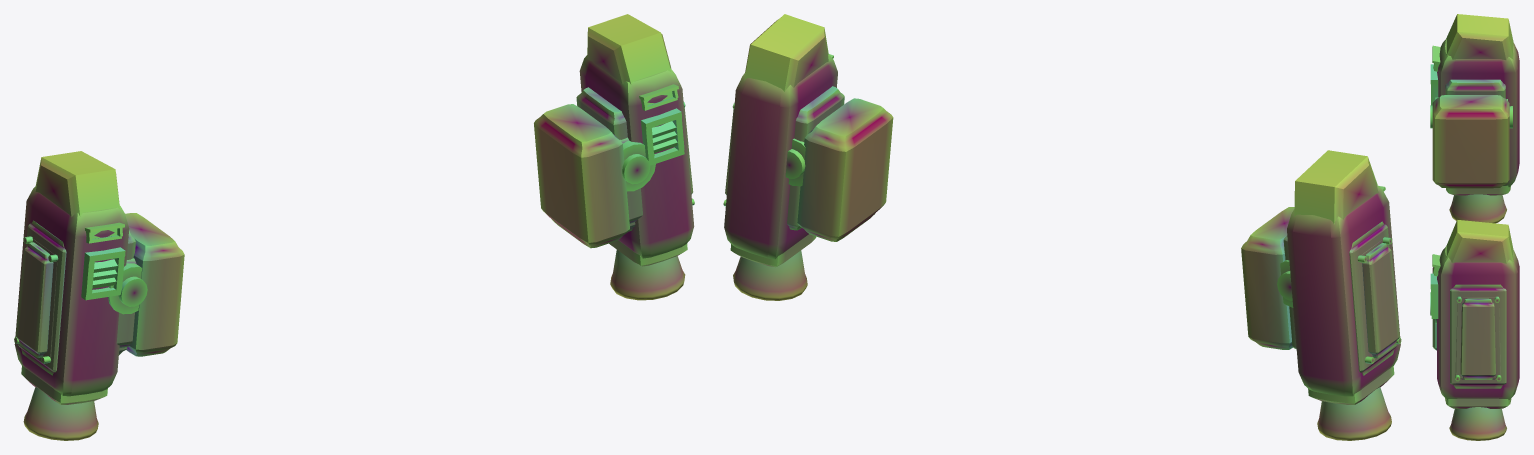
The model's file is llm_gen_leg_thrusters_055_684fba.glb.
The picture shows the model from 3 angles, left to right: view 1: azimuth 30°, elevation 25°; view 2: azimuth 150°, elevation 25°; view 3: azimuth 270°, elevation 25°; orthographic projection. The views are drawn at different scales.
Visible parts, largest first — view 1: adapter_calf_clamp_r, calf_thruster_hull_1_wing_white_l, calf_thruster_hull_1_wing_white_r, adapter_calf_clamp_l, nacelle_upper_cowl_2_psycho_emerald_r, nacelle_upper_cowl_2_psycho_emerald_l, nacelle_flank_armor_6_psycho_emerald_l, calf_main_bell_8_vernier_bell_vernier_l, calf_main_bell_8_vernier_bell_vernier_r, adapter_sub_flank_frame_dark_5_adapter_dark_l, adapter_sub_nacelle_intake_louver_3_dark_l, adapter_sub_tank_cradle_dark_0_adapter_dark_r (+5 smaller); view 2: calf_thruster_hull_1_wing_white_l, calf_thruster_hull_1_wing_white_r, adapter_calf_clamp_r, adapter_calf_clamp_l, nacelle_upper_cowl_2_psycho_emerald_r, nacelle_upper_cowl_2_psycho_emerald_l, nacelle_flank_armor_6_psycho_emerald_l, calf_main_bell_8_vernier_bell_vernier_l, calf_main_bell_8_vernier_bell_vernier_r, adapter_sub_flank_frame_dark_5_adapter_dark_l, adapter_sub_tank_cradle_dark_0_adapter_dark_r, adapter_sub_nozzle_shroud_dark_7_adapter_dark_l (+1 smaller); view 3: adapter_calf_clamp_l, calf_thruster_hull_1_wing_white_r, nacelle_flank_armor_6_psycho_emerald_r, calf_thruster_hull_1_wing_white_l, nacelle_upper_cowl_2_psycho_emerald_l, nacelle_upper_cowl_2_psycho_emerald_r, adapter_sub_flank_frame_dark_5_adapter_dark_r, calf_main_bell_8_vernier_bell_vernier_r, calf_main_bell_8_vernier_bell_vernier_l, adapter_sub_tank_cradle_dark_0_adapter_dark_l, adapter_sub_nozzle_shroud_dark_7_adapter_dark_r, adapter_sub_nozzle_shroud_dark_7_adapter_dark_l (+6 smaller).
Boxes of the visible parts, box(x1,y1,x2,y2) form: adapter_calf_clamp_r: box(534, 104, 655, 248); calf_thruster_hull_1_wing_white_l: box(14, 185, 129, 396); calf_thruster_hull_1_wing_white_r: box(579, 54, 694, 258); adapter_calf_clamp_l: box(108, 213, 184, 356); nacelle_upper_cowl_2_psycho_emerald_r: box(587, 14, 671, 84); nacelle_upper_cowl_2_psycho_emerald_l: box(35, 151, 119, 216); nacelle_flank_armor_6_psycho_emerald_l: box(14, 236, 58, 363); calf_main_bell_8_vernier_bell_vernier_l: box(23, 387, 98, 440); calf_main_bell_8_vernier_bell_vernier_r: box(610, 250, 685, 300); adapter_sub_flank_frame_dark_5_adapter_dark_l: box(18, 220, 66, 375); adapter_sub_nacelle_intake_louver_3_dark_l: box(81, 247, 125, 300); adapter_sub_tank_cradle_dark_0_adapter_dark_r: box(576, 87, 635, 231); calf_thruster_hull_1_wing_white_l: box(1287, 185, 1400, 396); calf_thruster_hull_1_wing_white_r: box(724, 54, 837, 259); adapter_calf_clamp_r: box(788, 98, 893, 241); adapter_calf_clamp_l: box(1241, 207, 1294, 349); nacelle_upper_cowl_2_psycho_emerald_r: box(744, 14, 828, 91); nacelle_upper_cowl_2_psycho_emerald_l: box(1294, 150, 1378, 224); nacelle_flank_armor_6_psycho_emerald_l: box(1357, 237, 1401, 363); calf_main_bell_8_vernier_bell_vernier_l: box(1317, 387, 1391, 440); calf_main_bell_8_vernier_bell_vernier_r: box(733, 250, 807, 300); adapter_sub_flank_frame_dark_5_adapter_dark_l: box(1349, 221, 1397, 375); adapter_sub_tank_cradle_dark_0_adapter_dark_r: box(787, 86, 844, 230); adapter_sub_nozzle_shroud_dark_7_adapter_dark_l: box(1308, 366, 1394, 404); adapter_calf_clamp_l: box(1432, 95, 1509, 188); calf_thruster_hull_1_wing_white_r: box(1437, 246, 1519, 400); nacelle_flank_armor_6_psycho_emerald_r: box(1455, 296, 1501, 381); calf_thruster_hull_1_wing_white_l: box(1437, 39, 1519, 186); nacelle_upper_cowl_2_psycho_emerald_l: box(1446, 14, 1513, 60); nacelle_upper_cowl_2_psycho_emerald_r: box(1446, 220, 1513, 263); adapter_sub_flank_frame_dark_5_adapter_dark_r: box(1450, 284, 1506, 388); calf_main_bell_8_vernier_bell_vernier_r: box(1449, 407, 1506, 440); calf_main_bell_8_vernier_bell_vernier_l: box(1449, 194, 1506, 223); adapter_sub_tank_cradle_dark_0_adapter_dark_l: box(1445, 79, 1505, 98); adapter_sub_nozzle_shroud_dark_7_adapter_dark_r: box(1445, 398, 1511, 408); adapter_sub_nozzle_shroud_dark_7_adapter_dark_l: box(1446, 185, 1510, 195).
Bounding box in the file's own units: 82.51 × 31.74 × 12.73.
